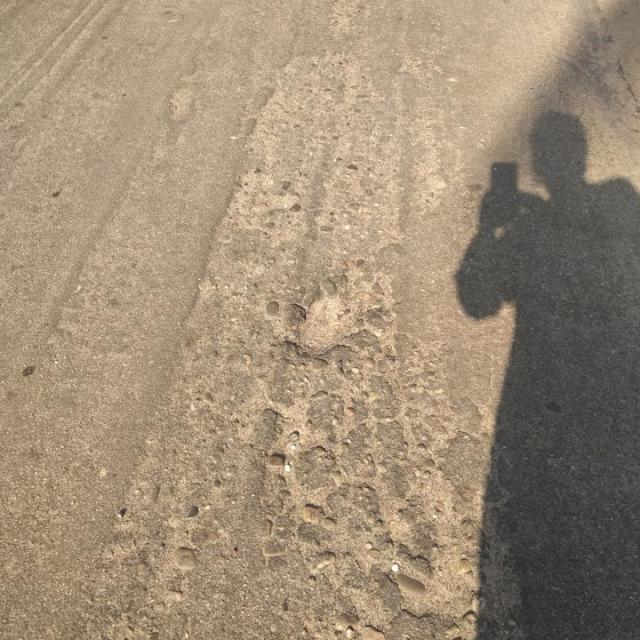Pothole: (288, 289, 371, 363)
